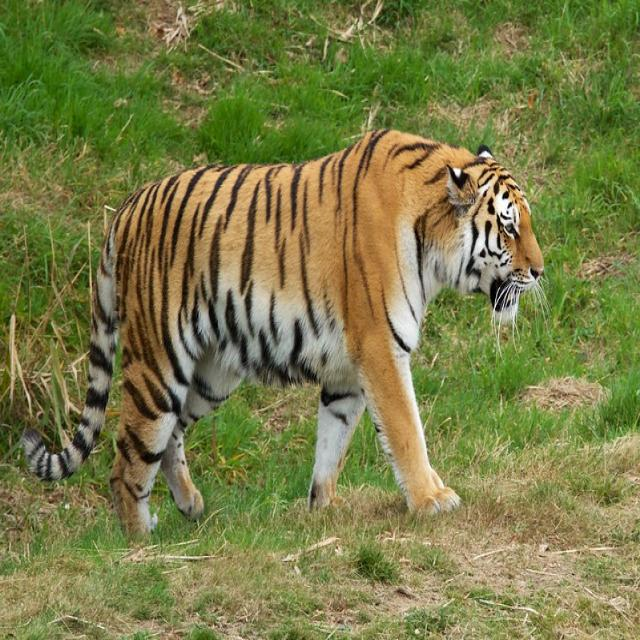Tiger: (10, 120, 552, 534)
